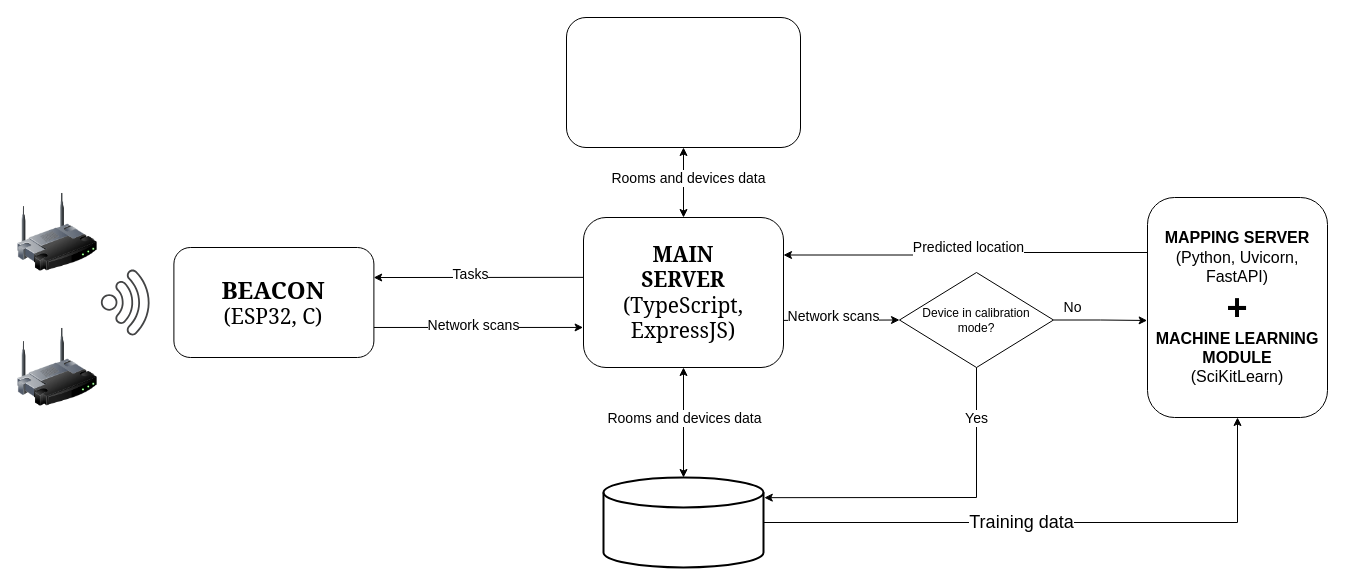
Some shapes in this 1345 by 586 pixel diagram are drawn without their labels. Here are the shapes that lost their labels. From the top down, the centre of each, then its label:
(683,82): Web App (React, TypeScript)
(683,522): DATABASE (MongoDB)
